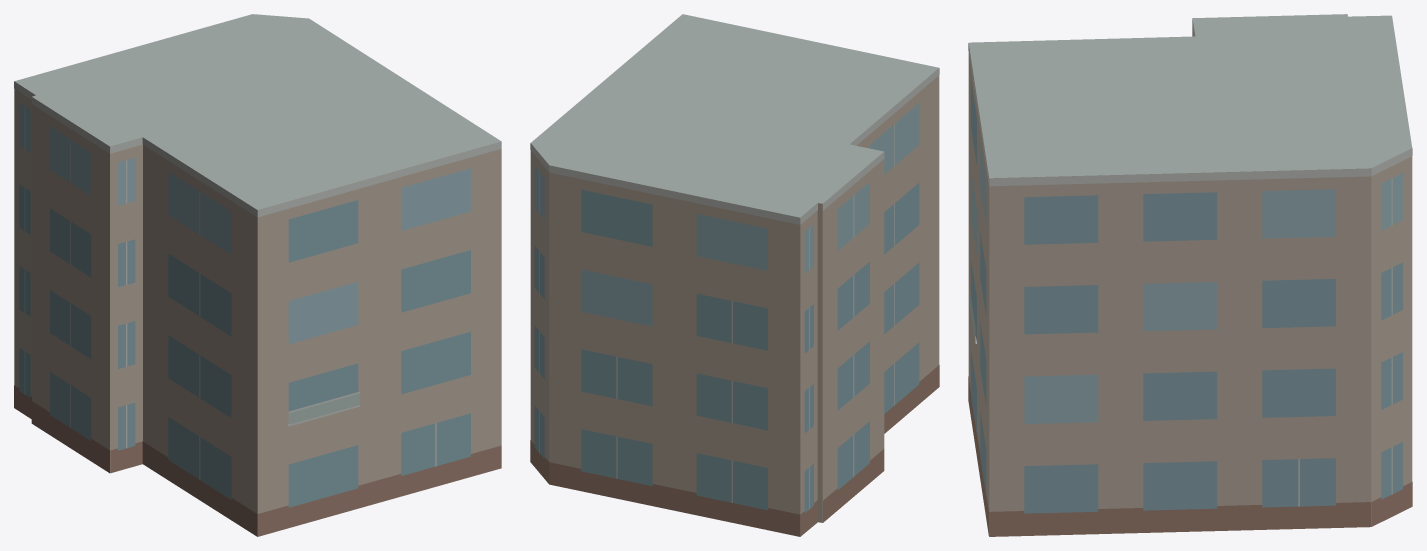
The model's file is survey-upis-32698631.glb.
3 views of the same model, side by side, from view 1: azimuth 30°, elevation 25°; view 2: azimuth 150°, elevation 25°; view 3: azimuth 270°, elevation 25° (orthographic). The views are drawn at different scales.
Parts seen in each view (by area): view 1: survey-upis-32698631.tmp; view 2: survey-upis-32698631.tmp; view 3: survey-upis-32698631.tmp.
Part boxes in pixels (x1=…): survey-upis-32698631.tmp: x1=14, y1=14, x2=501, y2=536; survey-upis-32698631.tmp: x1=530, y1=14, x2=939, y2=536; survey-upis-32698631.tmp: x1=968, y1=14, x2=1412, y2=536.
Bounding box in the file's own units: 10.72 × 10.9 × 12.23.
